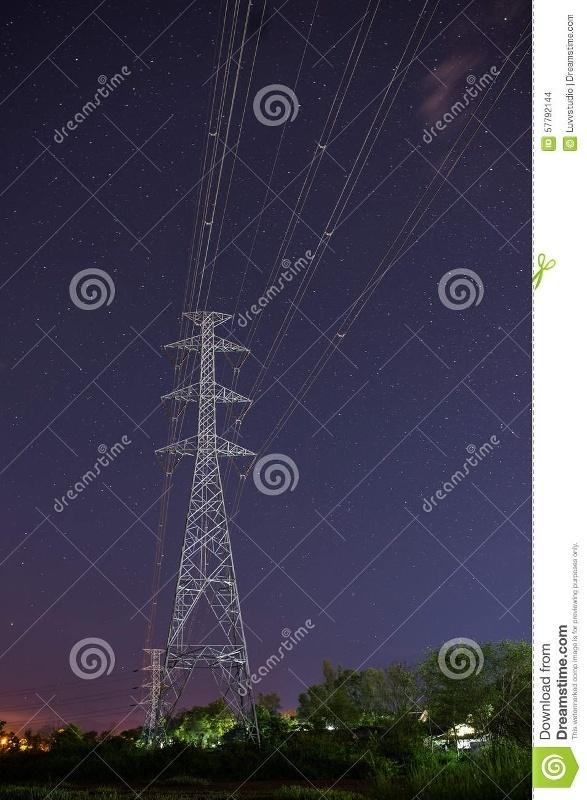power_tower: (163, 303, 263, 734)
